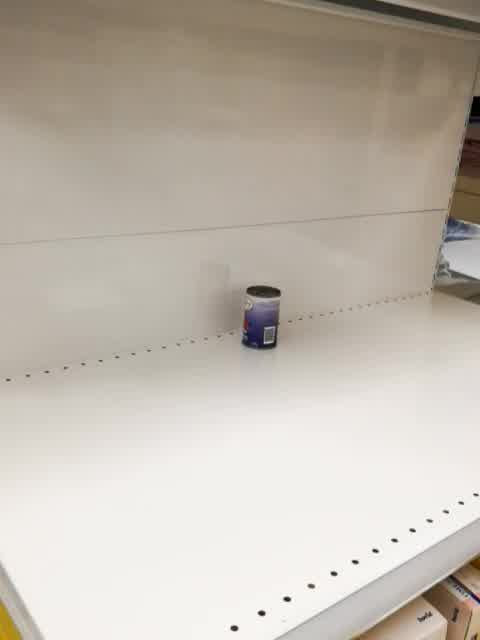sardine: (241, 283, 282, 351)
